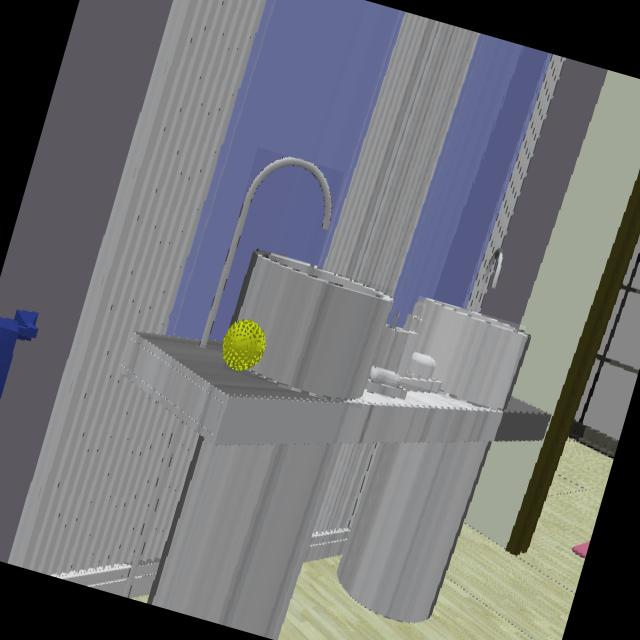washbasin: (200, 158, 330, 346), (236, 253, 392, 402), (413, 298, 523, 409)
